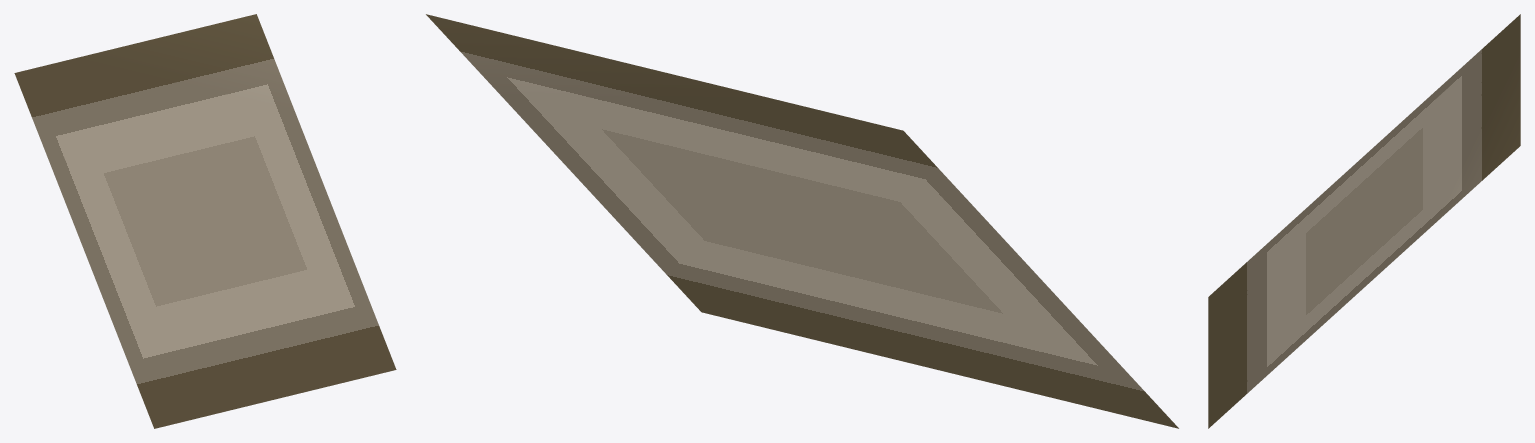
3 views of the same model, side by side, from view 1: azimuth 30°, elevation 25°; view 2: azimuth 150°, elevation 25°; view 3: azimuth 270°, elevation 25° (orthographic). The views are drawn at different scales.
Bounding box in the file's own units: 1 × 1 × 1.
1 material, 1 textured.
